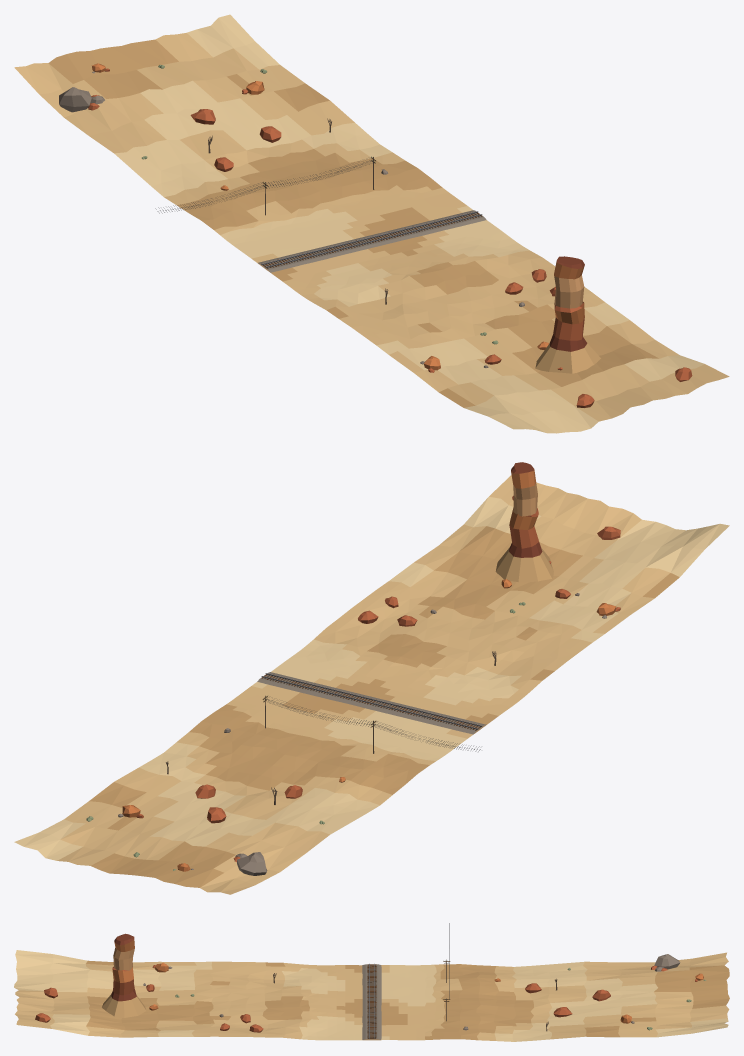
Rendered from chunk_rocky_b.glb.
3 views of the same model, one above another, from view 1: azimuth 30°, elevation 25°; view 2: azimuth 150°, elevation 25°; view 3: azimuth 270°, elevation 25° (orthographic). The views are drawn at different scales.
Parts seen in each view (by area): view 1: FG_Chunk_Rocky_B_Track; view 2: FG_Chunk_Rocky_B_Track; view 3: FG_Chunk_Rocky_B_Track.
Boxes of the visible parts, x1=… form: FG_Chunk_Rocky_B_Track: x1=14, y1=14, x2=729, y2=433; FG_Chunk_Rocky_B_Track: x1=14, y1=462, x2=729, y2=894; FG_Chunk_Rocky_B_Track: x1=14, y1=923, x2=729, y2=1041.
Size of the model in its own units: 62.5 by 23.94 by 202.
